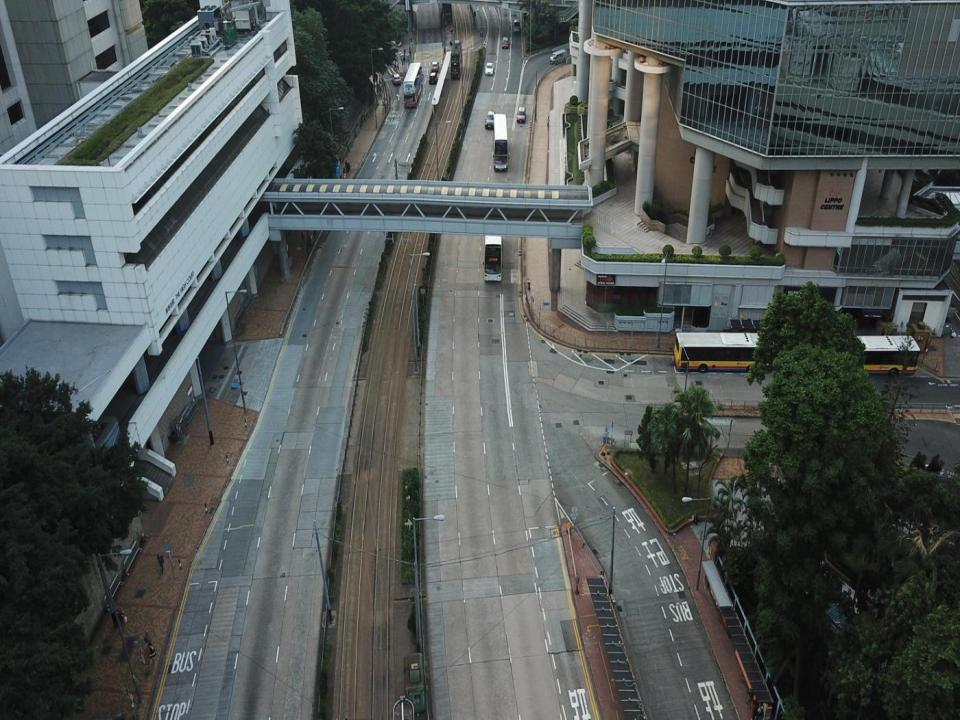bus: (674, 333, 920, 379), (483, 196, 502, 280), (493, 113, 510, 171), (403, 63, 424, 107), (451, 40, 462, 80)
car: (485, 110, 495, 129), (517, 107, 526, 122), (485, 62, 494, 75), (392, 73, 401, 85), (430, 71, 437, 84), (502, 36, 509, 48), (431, 61, 439, 70)
van: (550, 48, 566, 65), (513, 18, 520, 32)
